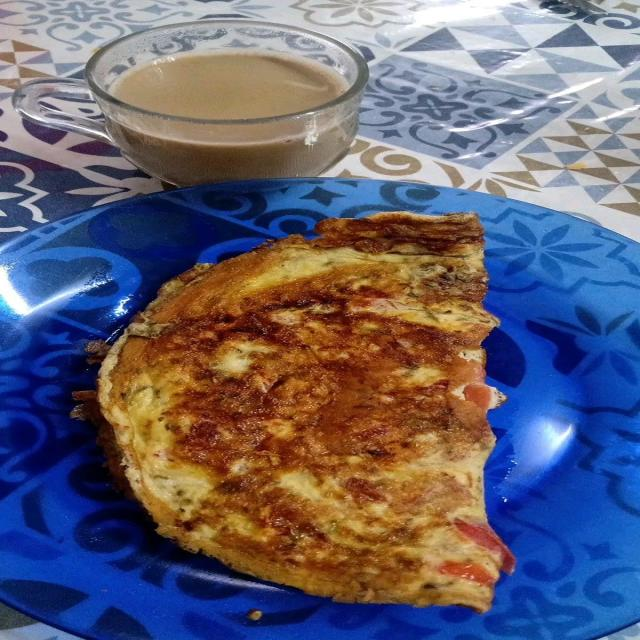omelette: (94, 213, 513, 611)
